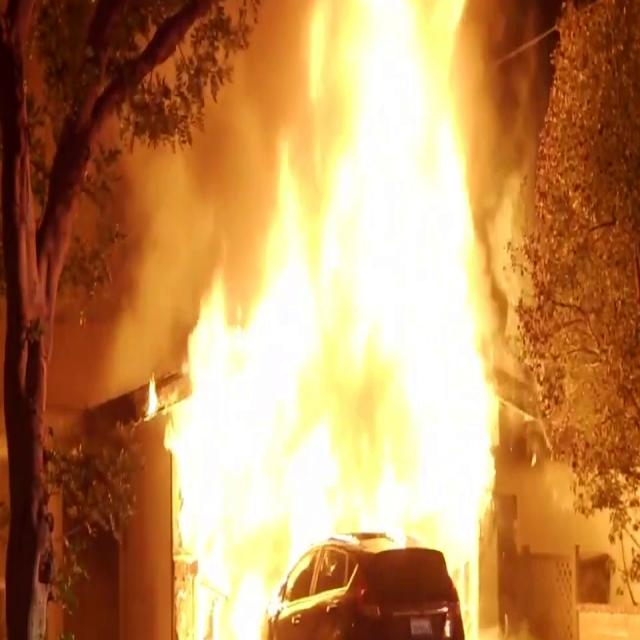fire: (274, 0, 478, 533), (187, 228, 486, 546), (163, 266, 267, 640)
smoke: (54, 119, 159, 387), (155, 0, 257, 218)
